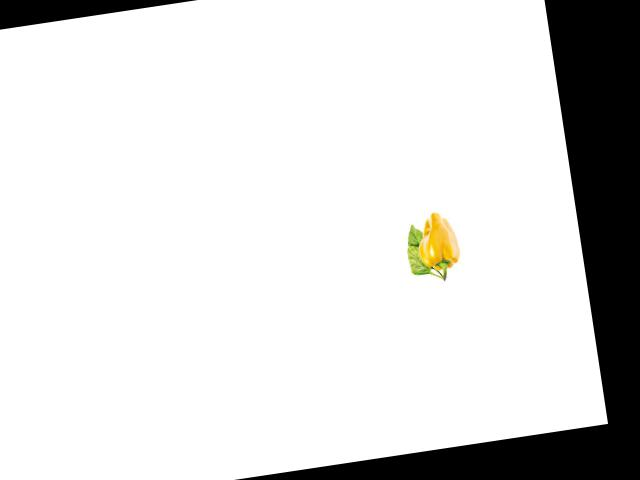bell_pepper: (412, 207, 467, 285)
